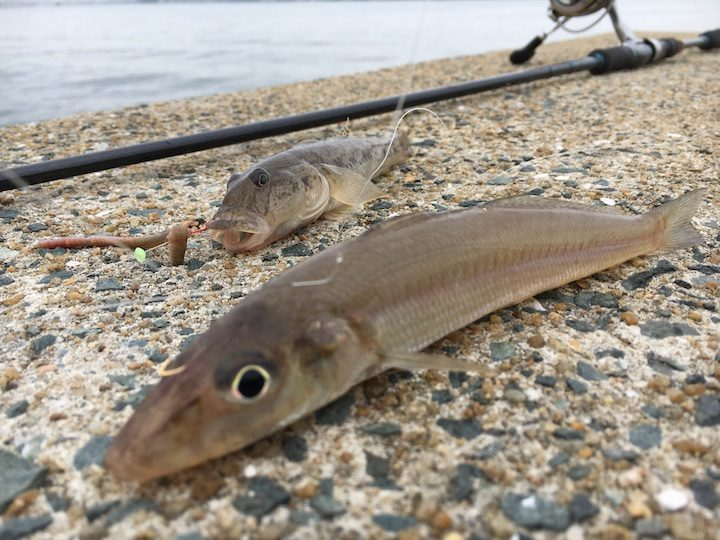kiss: (72, 199, 704, 476)
